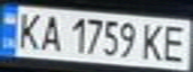1: (63, 15, 87, 54)
5: (103, 17, 121, 57)
7: (81, 16, 106, 55)
9: (118, 19, 142, 60)
A: (36, 11, 66, 52)
E: (160, 21, 193, 64)
K: (12, 9, 45, 51), (139, 20, 169, 62)
